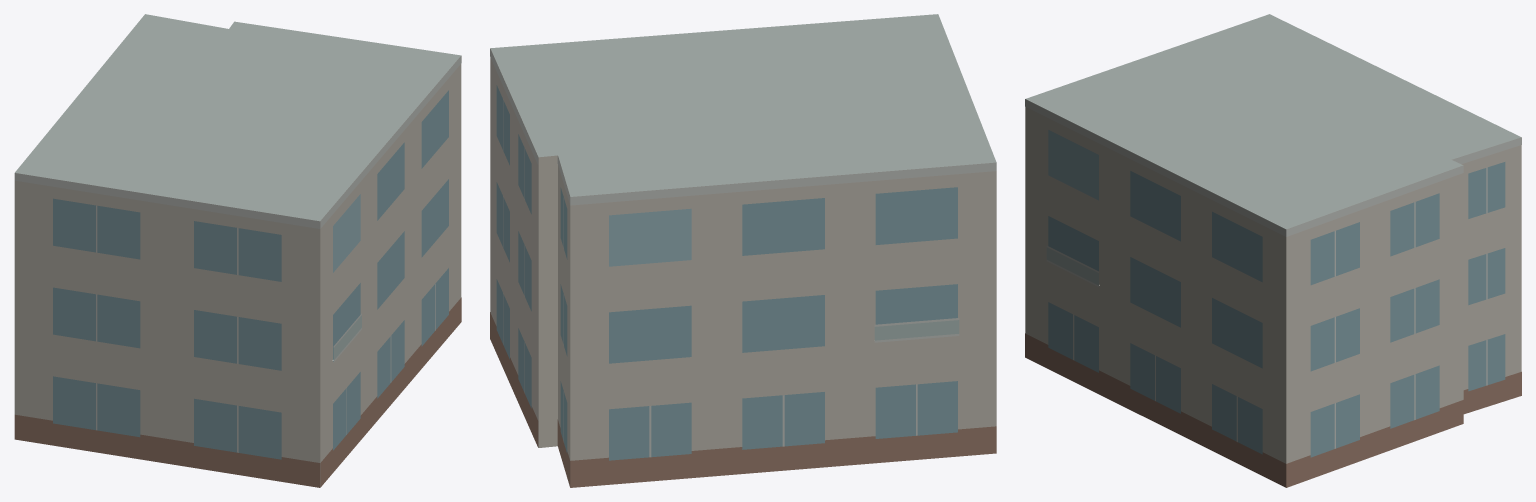
Rendered from survey-upis-32655401.glb.
3 renders of one model, left to right at view 1: azimuth 30°, elevation 25°; view 2: azimuth 150°, elevation 25°; view 3: azimuth 270°, elevation 25°, orthographic. The views are drawn at different scales.
Visible parts, largest first — view 1: survey-upis-32655401.tmp; view 2: survey-upis-32655401.tmp; view 3: survey-upis-32655401.tmp.
Part boxes in pixels (x1,y1,x2,y2): survey-upis-32655401.tmp: (14,14,461,487); survey-upis-32655401.tmp: (490,14,996,487); survey-upis-32655401.tmp: (1025,14,1521,487).
Size of the model in its own units: 14.85 by 8.3 by 14.46.
